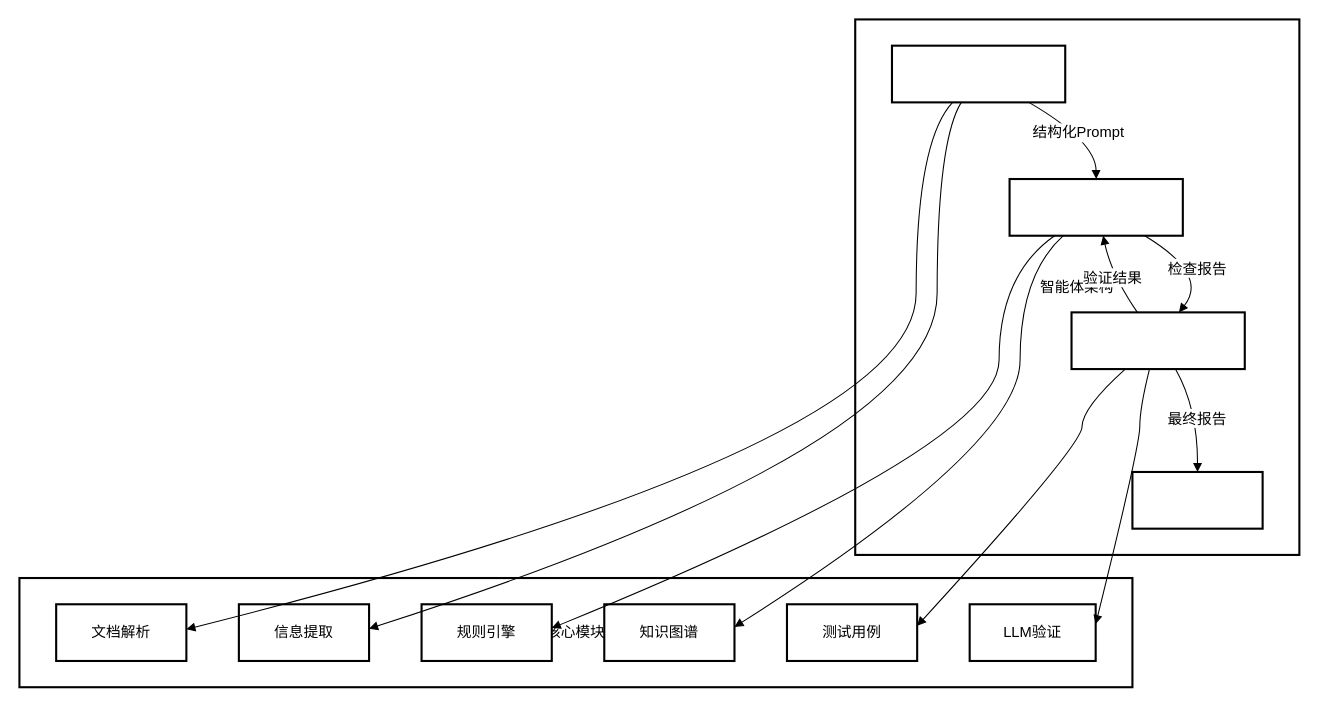
The diagram is 1318 pixels wide and 706 high, and some of its shapes have lost their labels. Here are the shapes that lost their labels. From the top down, the centre of each, then its label:
At point 978,73: "文件处理Agent".
At point 1095,206: "合规检查Agent".
At point 1157,340: "测试评估Agent".
At point 1197,499: "用户界面".
